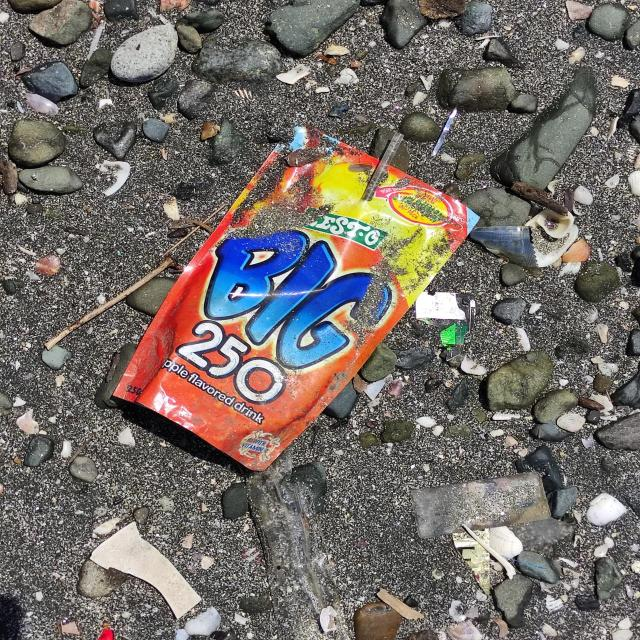plastic_waste: (115, 127, 473, 474)
